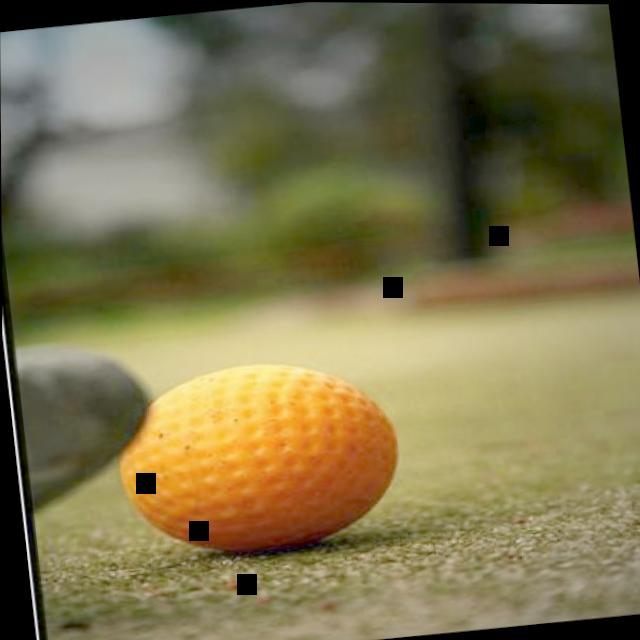golf ball: (113, 342, 418, 566)
